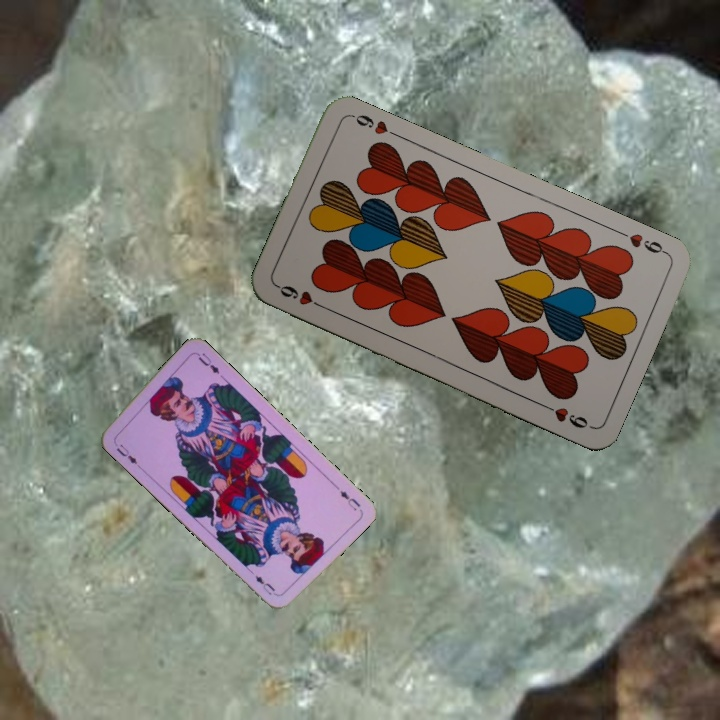EU: (110, 437, 142, 469), (335, 486, 363, 514)
H9: (613, 226, 670, 257), (273, 281, 329, 312)
